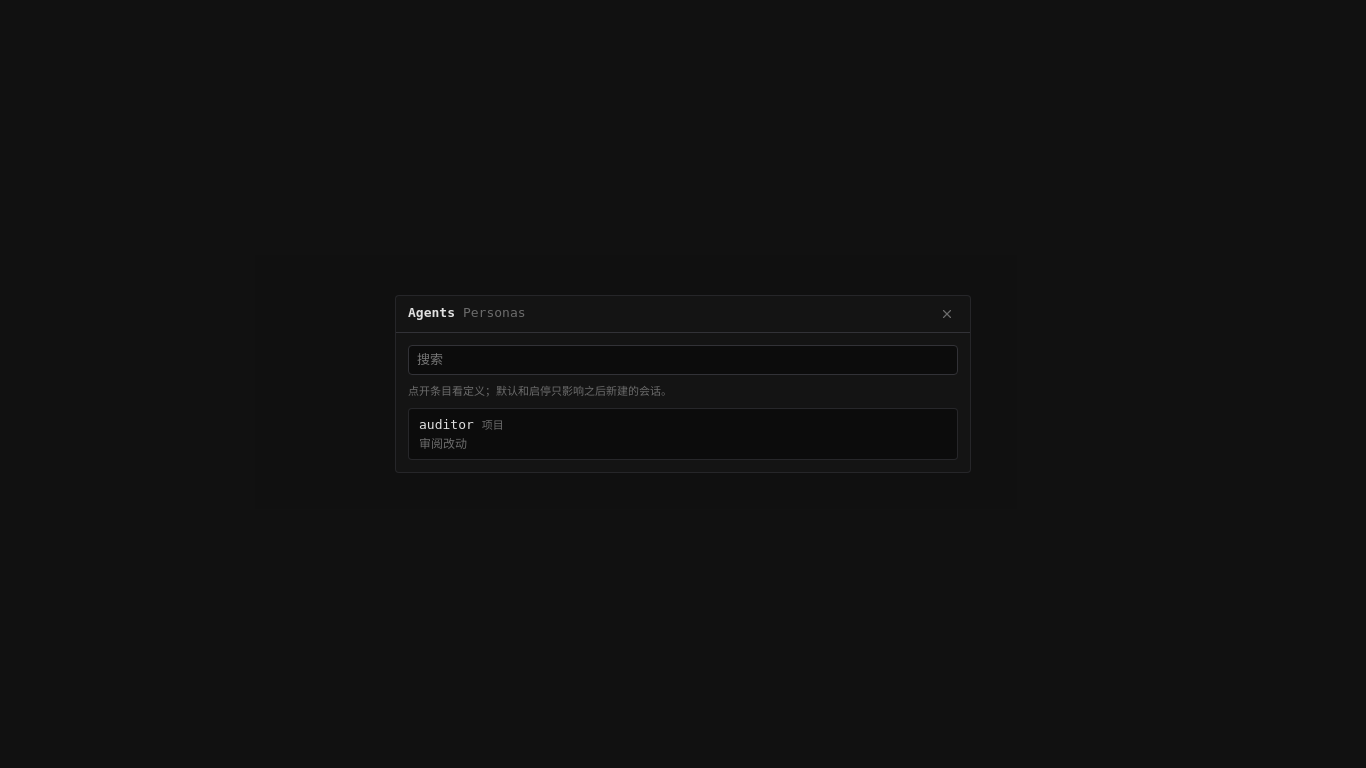
Test: AgentsModal 列表行 › 行内不摆操作按钮：设为默认/停用只在详情弹窗里
Expected: the text "auditor" is shown, [419,415,474,435]
Expected: the text "设为默认" is not shown
Click the button "auditor 项目 审阅改动". click: (446, 424)
box: [408,408,958,460]
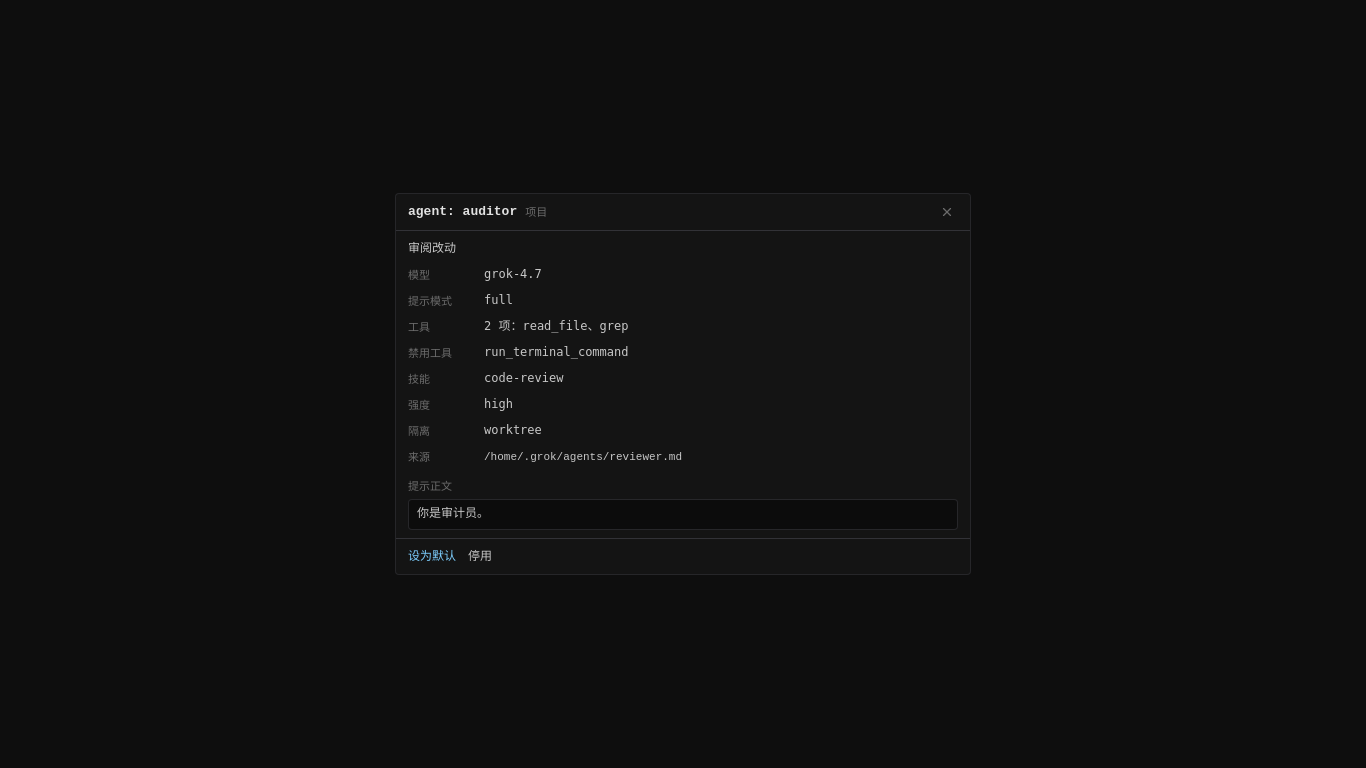
Expected: the dialog with test id "agent-detail" is shown, [395,193,971,574]
Expected: the button "设为默认" is shown, [408,547,456,566]
Expected: the button "停用" is shown, [468,547,492,566]
